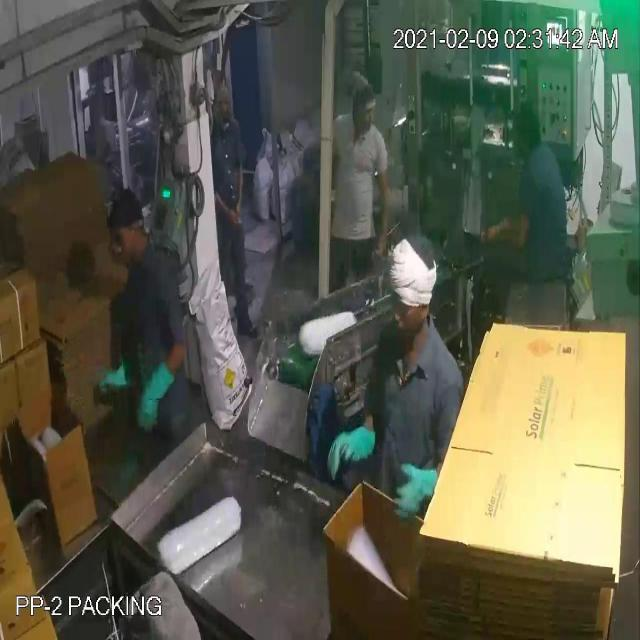Gloves: (28, 49, 504, 482)
